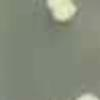white: (50, 0, 80, 26), (72, 88, 100, 100), (45, 0, 74, 9)
